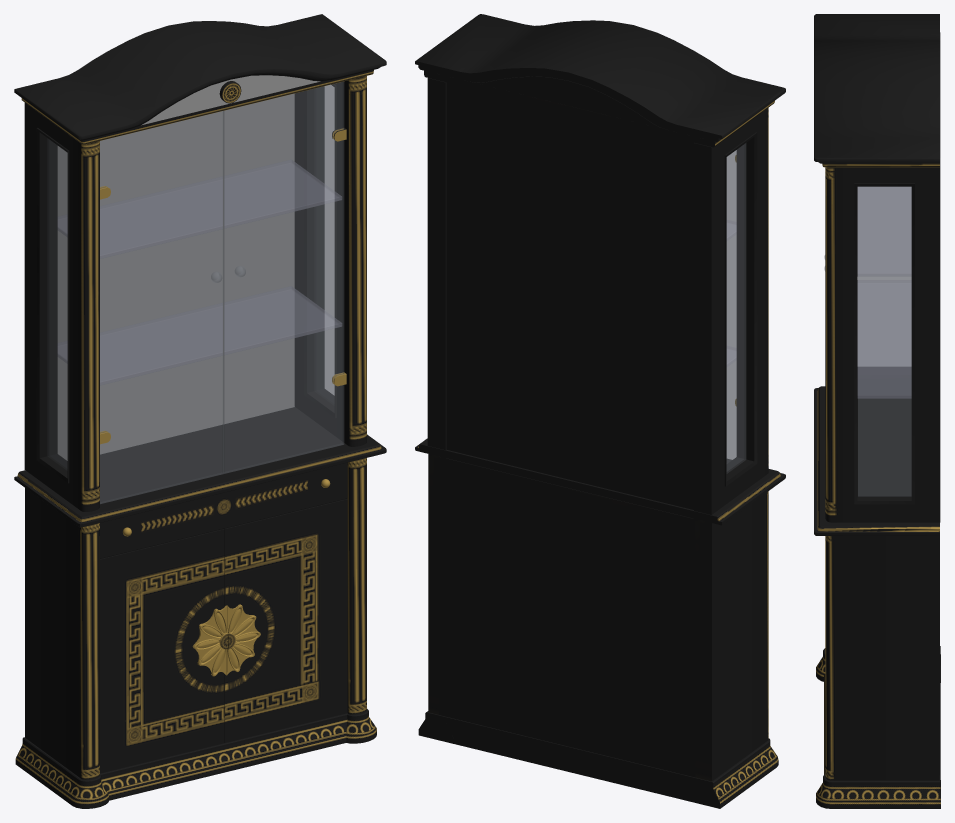
File: italian-case.glb
3 renders of one model, left to right at view 1: azimuth 30°, elevation 25°; view 2: azimuth 150°, elevation 25°; view 3: azimuth 270°, elevation 25°, orthographic. The views are drawn at different scales.
Visible parts, largest first — view 1: Italian_Style_Display_Case_Frame, Italian_Style_Display_Case_Glass, Object001_Glass_02_0; view 2: Italian_Style_Display_Case_Frame, Italian_Style_Display_Case_Glass; view 3: Italian_Style_Display_Case_Frame, Italian_Style_Display_Case_Glass, Object001_Glass_02_0.
Boxes of the visible parts, <box> form: Italian_Style_Display_Case_Frame: <box>14,14,386,808</box>; Italian_Style_Display_Case_Glass: <box>47,81,343,503</box>; Object001_Glass_02_0: <box>58,159,341,385</box>; Italian_Style_Display_Case_Frame: <box>415,14,785,808</box>; Italian_Style_Display_Case_Glass: <box>726,143,745,473</box>; Italian_Style_Display_Case_Frame: <box>814,14,940,808</box>; Italian_Style_Display_Case_Glass: <box>824,187,911,496</box>; Object001_Glass_02_0: <box>857,187,911,398</box>.
Size of the model in its own units: 1.01 by 2.19 by 0.3722.
Materials: 3 (1 with a texture image).
